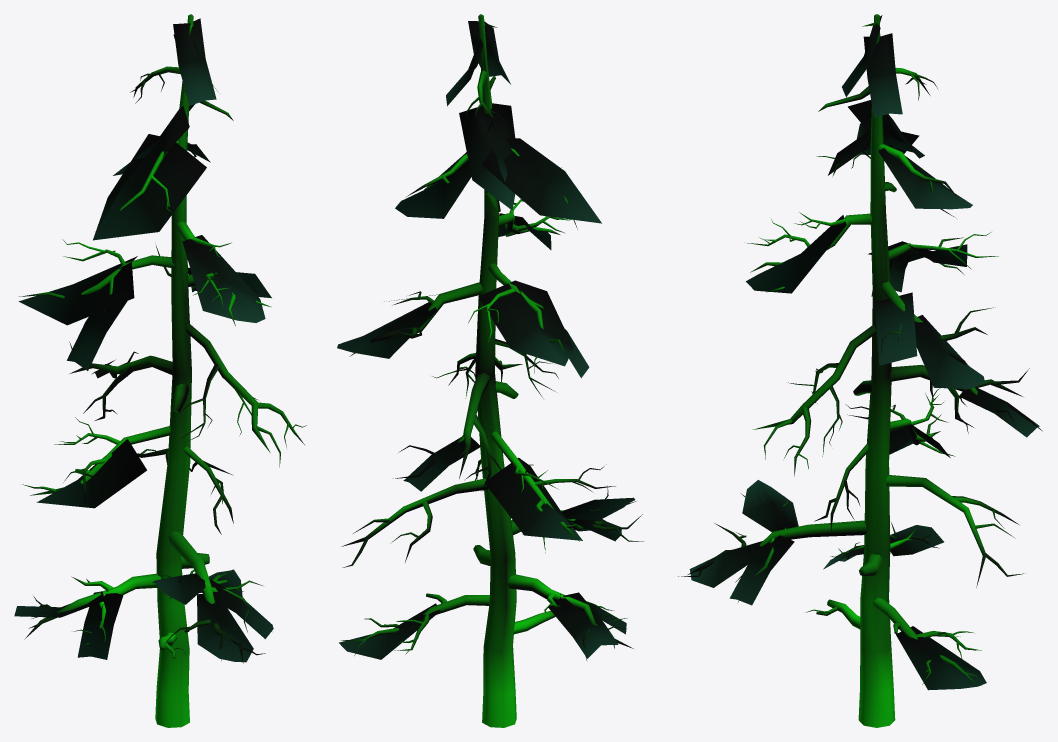
File: SM_PineDead03.fbx
The picture shows the model from 3 angles, left to right: view 1: azimuth 30°, elevation 25°; view 2: azimuth 150°, elevation 25°; view 3: azimuth 270°, elevation 25°; orthographic projection.
Parts seen in each view (by area): view 1: SM_PineDead03_LOD0; view 2: SM_PineDead03_LOD0; view 3: SM_PineDead03_LOD0.
Boxes of the visible parts, x1,y1,x2,y2 form: SM_PineDead03_LOD0: [14, 14, 306, 727]; SM_PineDead03_LOD0: [337, 14, 643, 727]; SM_PineDead03_LOD0: [678, 14, 1042, 727].
Size of the model in its own units: 734 by 1911 by 887.
